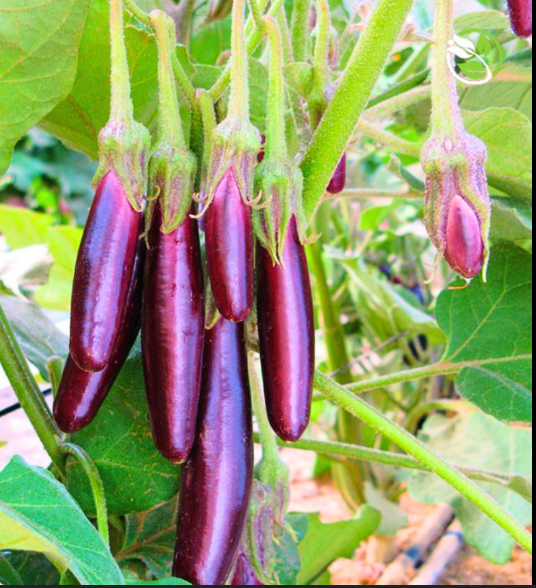catim: (130, 15, 199, 456), (73, 6, 139, 438), (253, 38, 320, 448), (417, 15, 501, 290), (183, 306, 248, 587), (210, 11, 263, 327)
